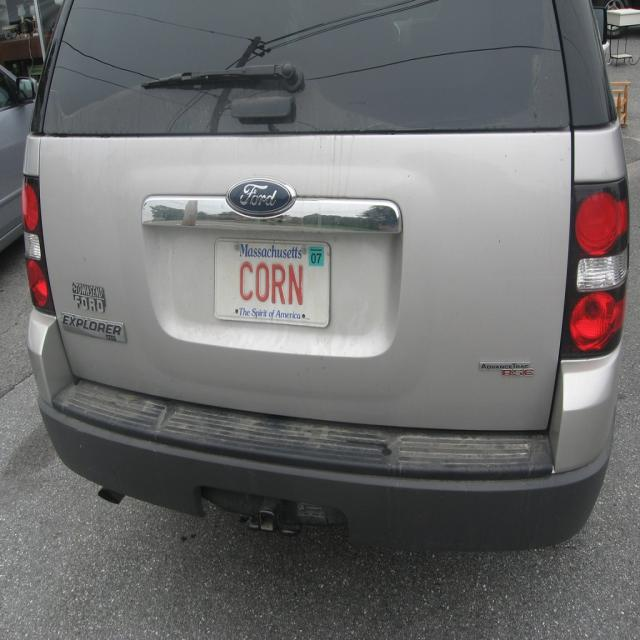ford: (224, 174, 302, 220)
